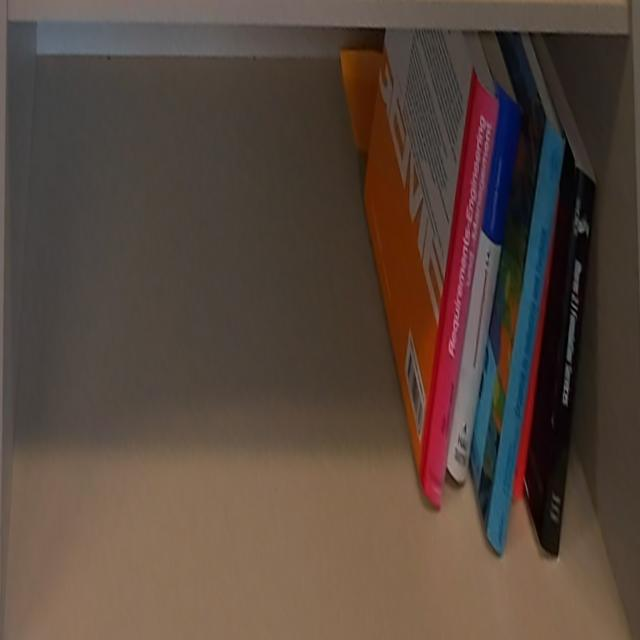Book Spine: (486, 119, 567, 554), (422, 76, 499, 508), (446, 86, 524, 482), (542, 169, 598, 556)
